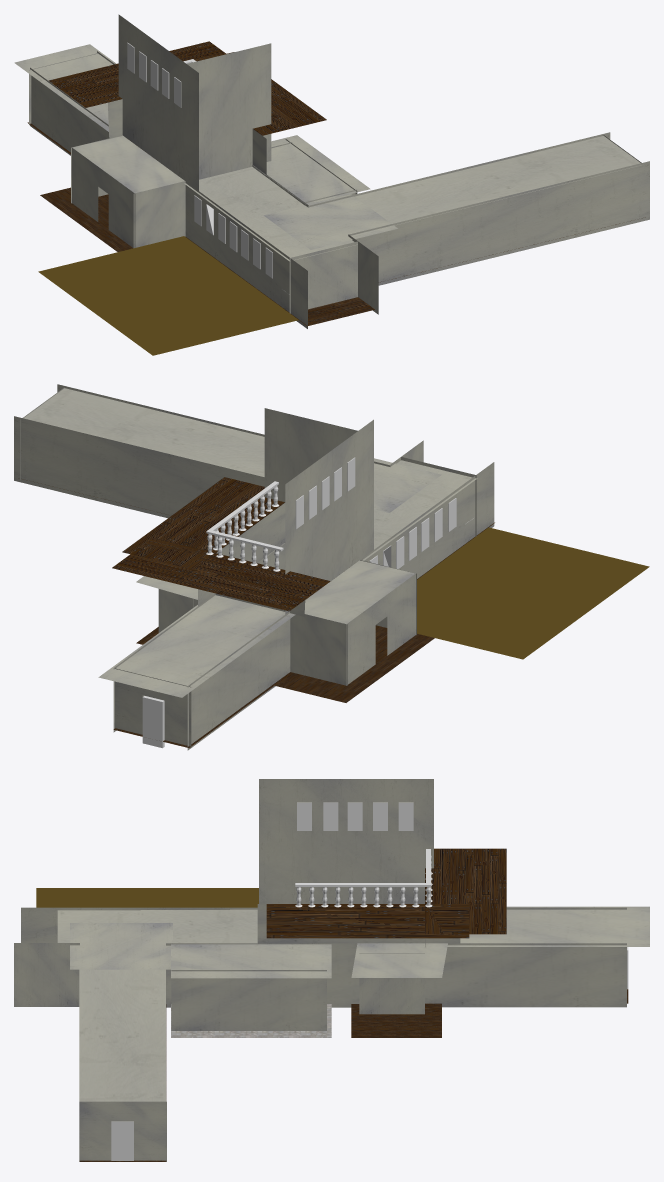
File: PT Level 2.fbx
3 renders of one model, top to bottom at view 1: azimuth 30°, elevation 25°; view 2: azimuth 150°, elevation 25°; view 3: azimuth 270°, elevation 25°, orthographic. The views are drawn at different scales.
Parts seen in each view (by area): view 1: Plane.030, Plane.002, Cube.012, Plane.028, Plane.029, Plane.004, Cube.013, Plane.034, Plane.018, Plane.019, Plane.003, Plane.031 (+13 smaller); view 2: Plane.030, Plane.001, Plane.028, Plane.032, Cube.012, Plane.025, Plane.003, Plane.024, Plane.004, Plane.029, Plane.019, Plane.031 (+15 smaller); view 3: Plane.028, Plane.005, Cube.012, Plane.022, Plane.024, Plane.032, Plane.025, Plane.018, Plane.034, Cube.013, Plane.030, Plane (+12 smaller).
Part boxes in pixels (left/top/right/bottom): Plane.030: left=38, top=236, right=298, bottom=355; Plane.002: left=348, top=161, right=649, bottom=285; Cube.012: left=355, top=136, right=641, bottom=225; Plane.028: left=118, top=14, right=198, bottom=190; Plane.029: left=187, top=43, right=271, bottom=179; Plane.004: left=185, top=182, right=307, bottom=328; Cube.013: left=184, top=167, right=357, bottom=261; Plane.034: left=263, top=194, right=397, bottom=249; Plane.018: left=253, top=135, right=370, bottom=204; Plane.019: left=72, top=148, right=135, bottom=247; Plane.003: left=30, top=67, right=109, bottom=155; Plane.031: left=72, top=136, right=184, bottom=193; Plane.030: left=417, top=527, right=649, bottom=659; Plane.001: left=14, top=416, right=264, bottom=518; Plane.028: left=285, top=419, right=373, bottom=614; Plane.032: left=98, top=595, right=295, bottom=697; Cube.012: left=23, top=388, right=264, bottom=476; Plane.025: left=112, top=538, right=330, bottom=611; Plane.003: left=187, top=611, right=290, bottom=750; Plane.024: left=122, top=477, right=284, bottom=569; Plane.004: left=360, top=462, right=494, bottom=578; Plane.029: left=264, top=408, right=357, bottom=501; Plane.019: left=346, top=573, right=416, bottom=685; Plane.031: left=304, top=560, right=415, bottom=624; Plane.028: left=259, top=779, right=433, bottom=903; Plane.005: left=425, top=943, right=626, bottom=1007; Cube.012: left=79, top=969, right=165, bottom=1101; Plane.022: left=171, top=970, right=326, bottom=1030; Plane.024: left=266, top=904, right=469, bottom=938; Plane.032: left=447, top=906, right=649, bottom=946; Plane.025: left=425, top=848, right=506, bottom=934; Plane.018: left=171, top=944, right=331, bottom=978; Plane.034: left=70, top=923, right=172, bottom=969; Cube.013: left=57, top=909, right=257, bottom=943; Plane.030: left=36, top=888, right=258, bottom=907; Plane: left=79, top=1101, right=166, bottom=1161.
Bounding box in the file's own units: 31810 × 10542 × 31083.
9 materials, 6 textured.
